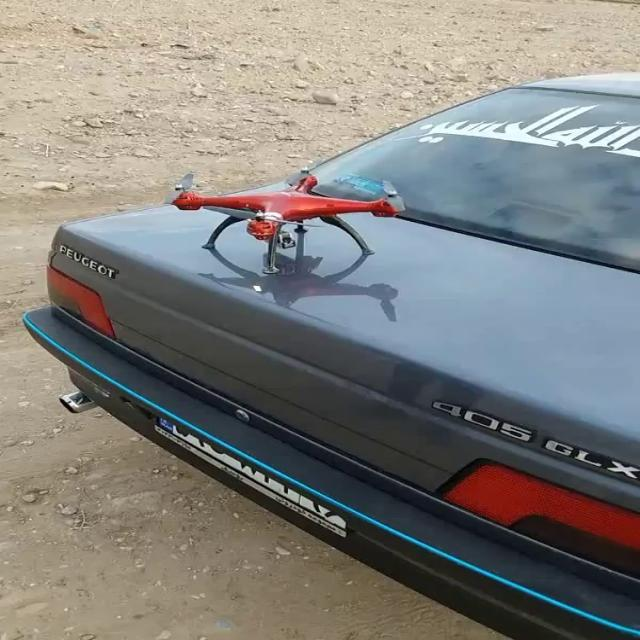drone: (158, 166, 408, 273)
